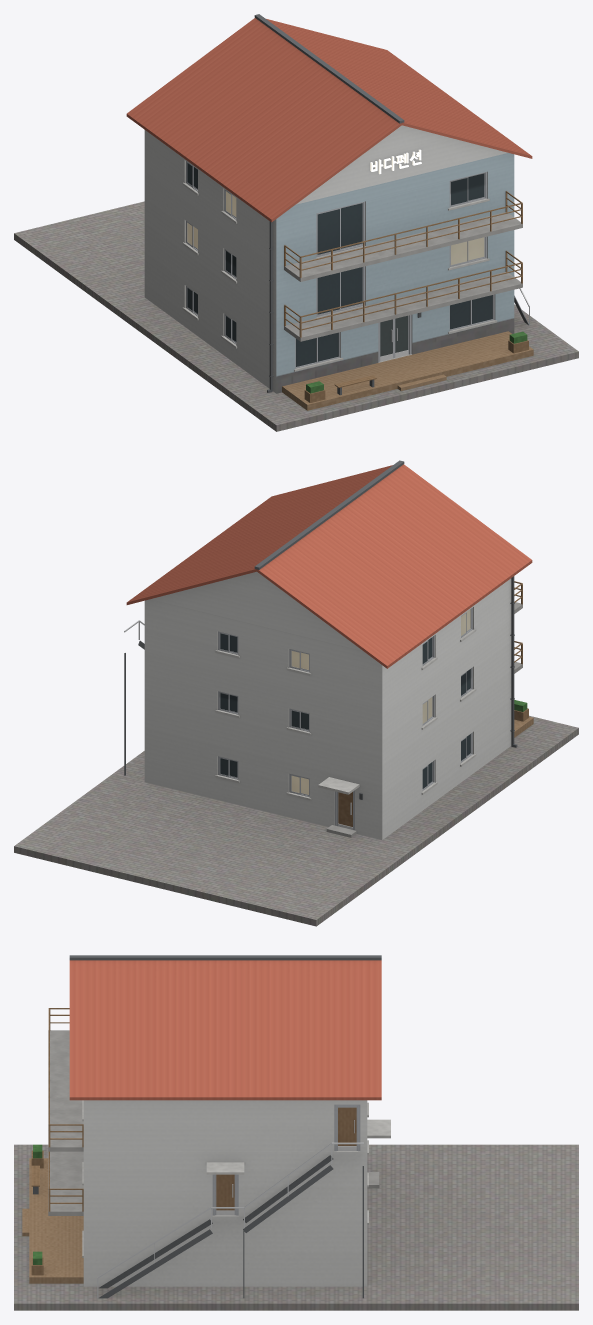
The model's file is IlsanPension01_LOD1.fbx.
3 views of the same model, one above another, from view 1: azimuth 30°, elevation 25°; view 2: azimuth 150°, elevation 25°; view 3: azimuth 270°, elevation 25° (orthographic). The views are drawn at different scales.
Parts seen in each view (by area): view 1: IlsanPension01_LOD1; view 2: IlsanPension01_LOD1; view 3: IlsanPension01_LOD1.
Part boxes in pixels (box(x1,y1,x2,y2)): IlsanPension01_LOD1: box(14, 14, 578, 431); IlsanPension01_LOD1: box(14, 460, 578, 926); IlsanPension01_LOD1: box(14, 955, 578, 1310).
Bounding box in the file's own units: 15.9 × 12.83 × 23.9.
1 material, 1 textured.
